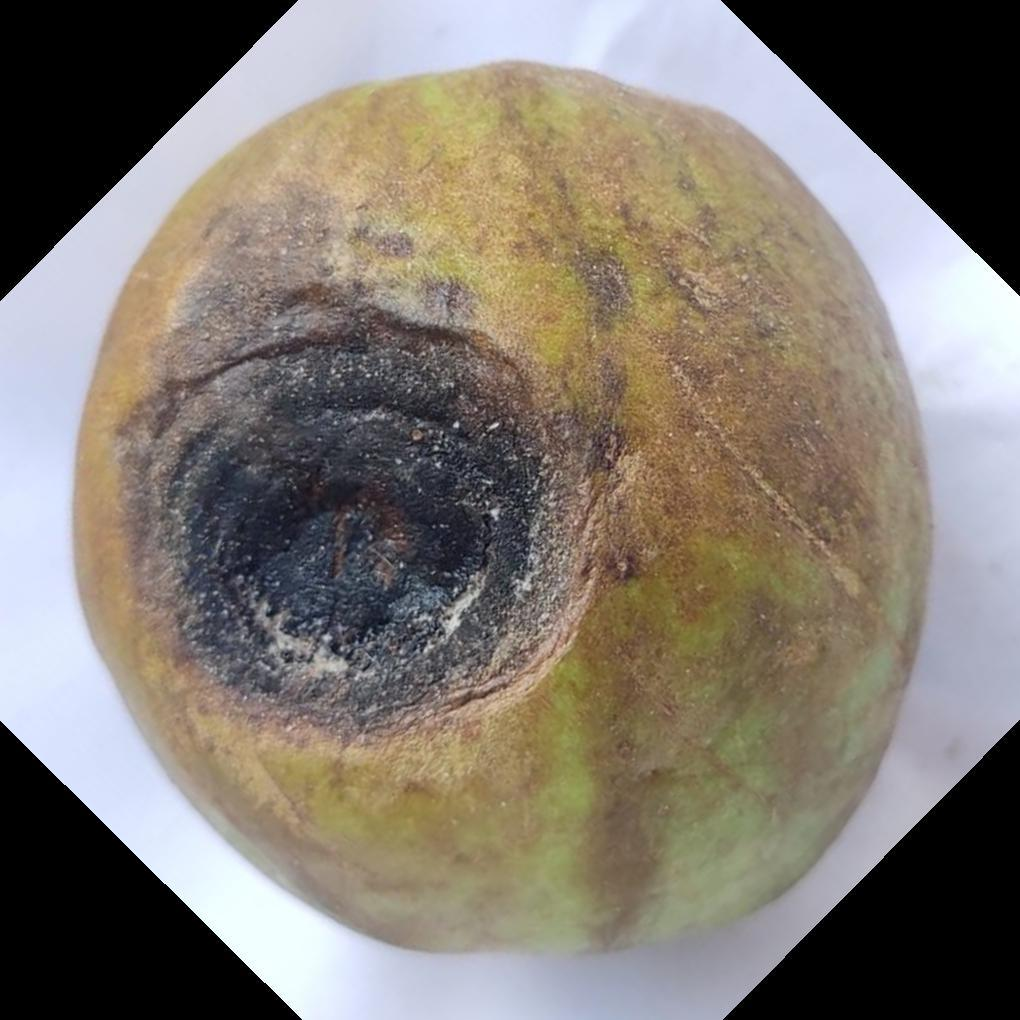FreshOrange: (66, 59, 937, 962)
